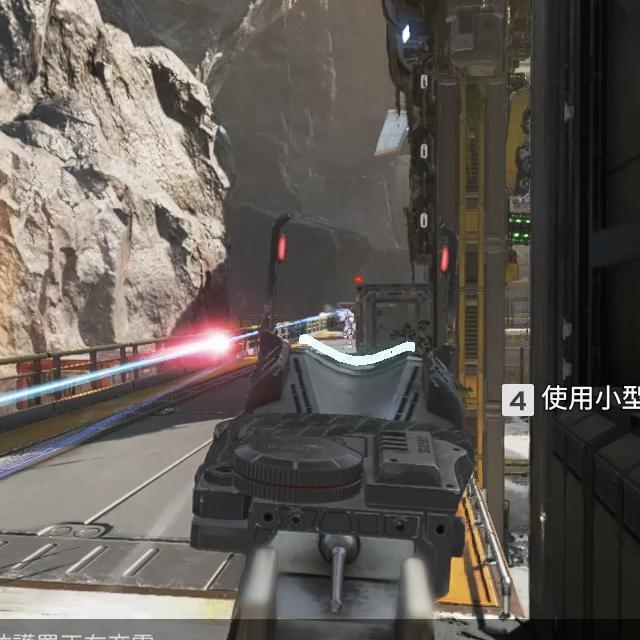avatar: (341, 308, 356, 346)
